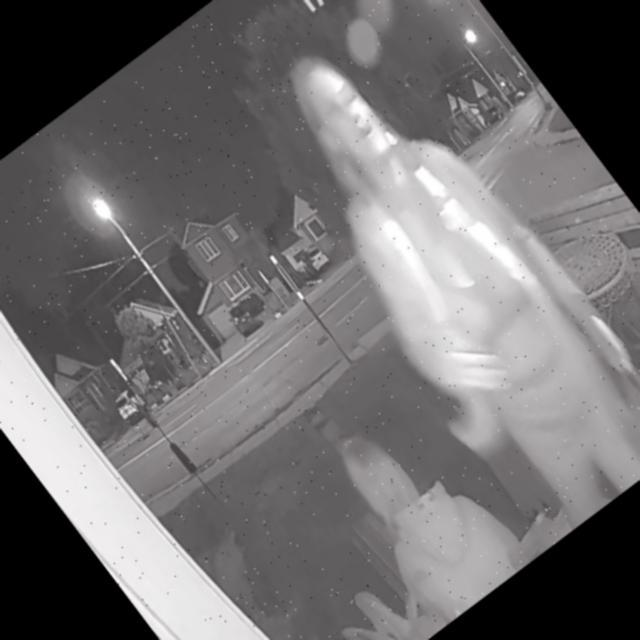person: (235, 8, 640, 540), (310, 393, 535, 634)
